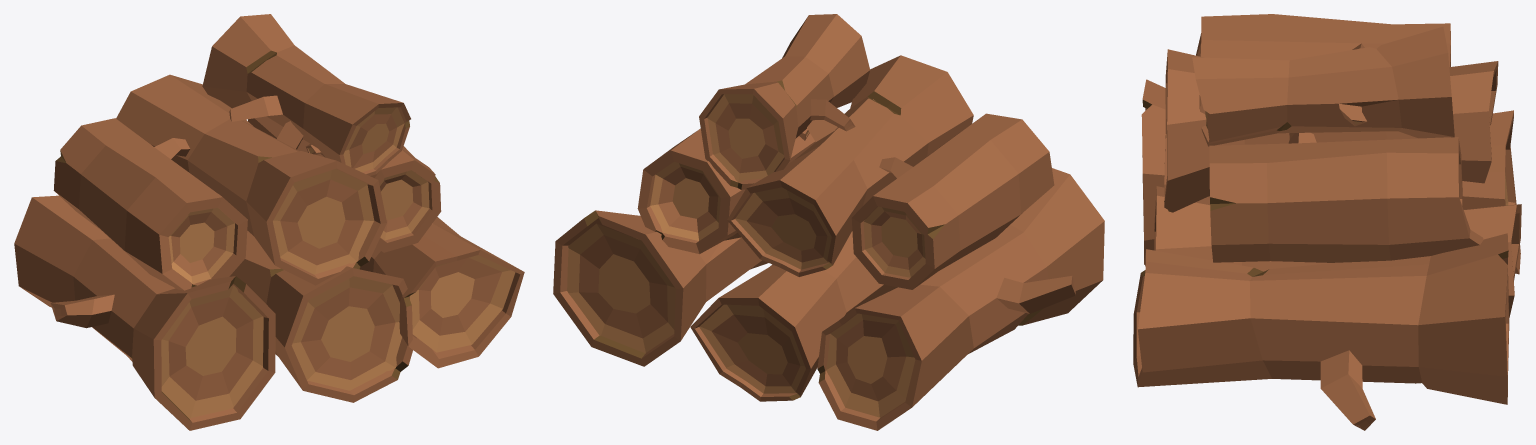
File: Log_Pile_Vege.glb
The picture shows the model from 3 angles, left to right: view 1: azimuth 30°, elevation 25°; view 2: azimuth 150°, elevation 25°; view 3: azimuth 270°, elevation 25°; orthographic projection. The views are drawn at different scales.
Parts seen in each view (by area): view 1: Log_Pile_Vege; view 2: Log_Pile_Vege; view 3: Log_Pile_Vege.
Boxes of the visible parts, x1,y1,x2,y2 form: Log_Pile_Vege: (14, 14, 524, 430); Log_Pile_Vege: (553, 14, 1104, 430); Log_Pile_Vege: (1133, 14, 1521, 430).
Size of the model in its own units: 2.64 by 1.63 by 1.75.
1 material, 1 textured.
